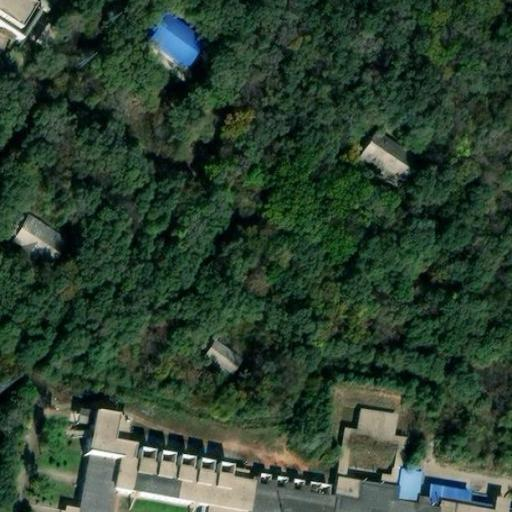building: (123, 463, 332, 512), (329, 471, 470, 512), (355, 118, 425, 181), (3, 210, 68, 274), (147, 12, 208, 66), (76, 464, 128, 512), (194, 330, 245, 375), (84, 423, 130, 470), (356, 409, 393, 439)
